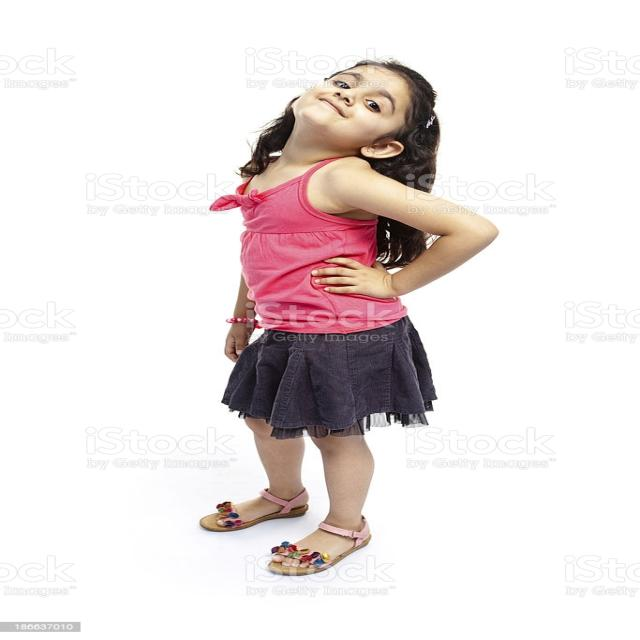child: (170, 45, 510, 596)
